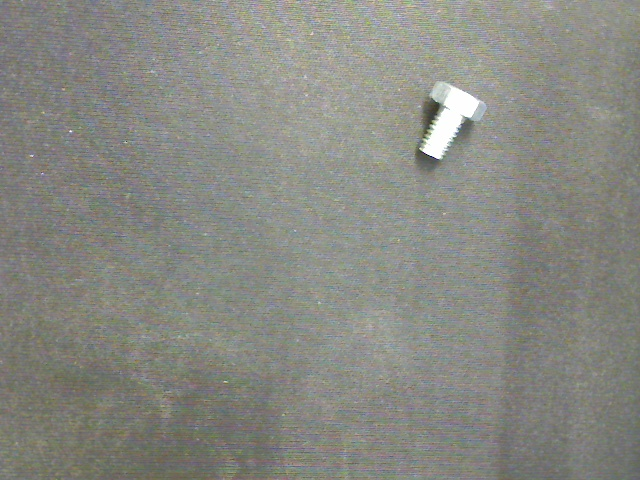screw: (418, 81, 487, 160)
